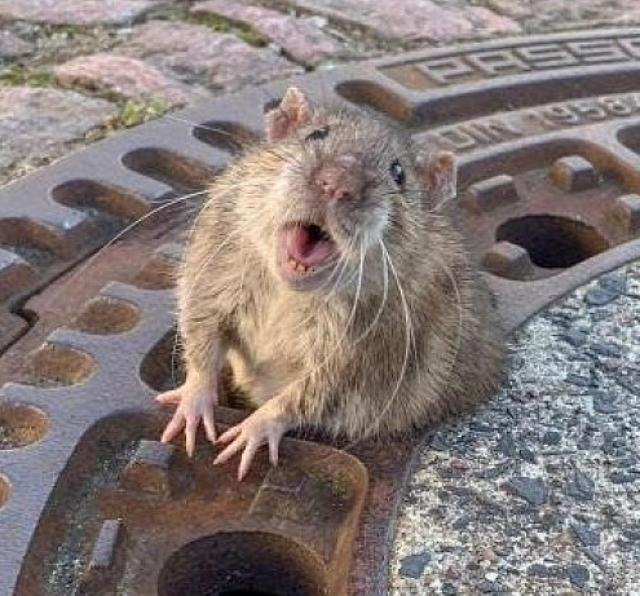rat: (140, 66, 548, 500)
